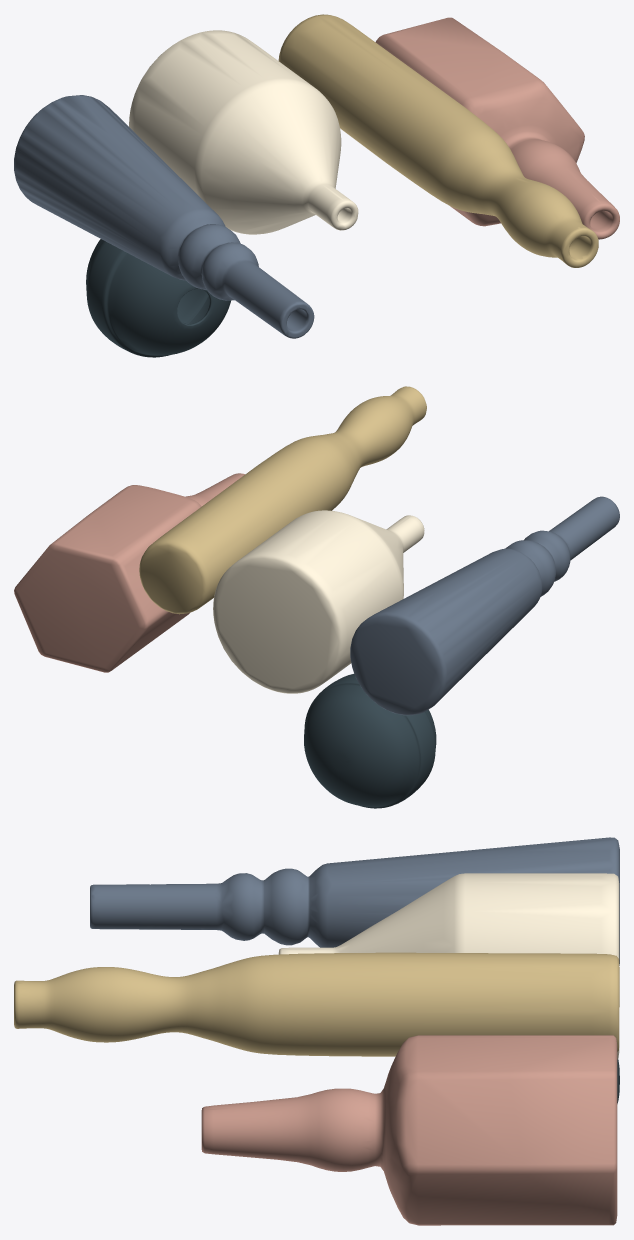
Rendered from vases-opt.glb.
The picture shows the model from 3 angles, top to bottom: view 1: azimuth 30°, elevation 25°; view 2: azimuth 150°, elevation 25°; view 3: azimuth 270°, elevation 25°; orthographic projection. The views are drawn at different scales.
Parts seen in each view (by area): view 1: Morandi Bottle Vase.001, Blue, Yellow, Pink, Dark Blue; view 2: Morandi Bottle Vase.001, Blue, Yellow, Pink, Dark Blue; view 3: Pink, Yellow, Blue, Morandi Bottle Vase.001.
Part boxes in pixels (bbox=[...]): Morandi Bottle Vase.001: bbox=[129, 30, 358, 234]; Blue: bbox=[14, 95, 314, 338]; Yellow: bbox=[278, 14, 598, 267]; Pink: bbox=[375, 17, 619, 239]; Dark Blue: bbox=[86, 239, 231, 357]; Morandi Bottle Vase.001: bbox=[213, 510, 424, 693]; Blue: bbox=[350, 496, 619, 715]; Yellow: bbox=[139, 386, 426, 614]; Pink: bbox=[14, 473, 244, 672]; Dark Blue: bbox=[304, 674, 436, 808]; Pink: bbox=[201, 1035, 617, 1225]; Yellow: bbox=[14, 952, 619, 1056]; Blue: bbox=[90, 837, 619, 965]; Morandi Bottle Vase.001: bbox=[278, 873, 619, 1059].
Size of the model in its own units: 0.3337 by 0.1845 by 0.3202.
